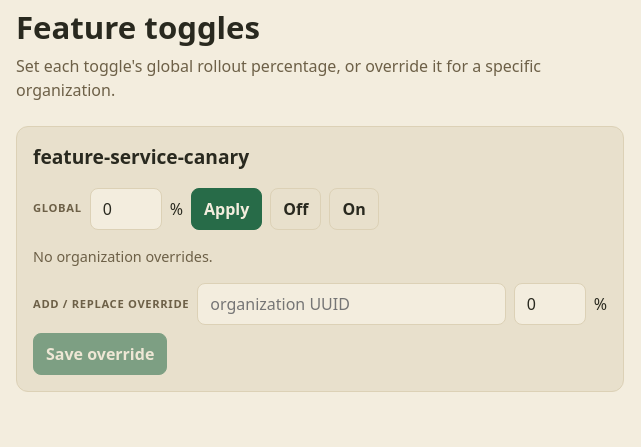
Test: FeatureTogglesPageComponent › shows a per-card error when a write fails and keeps the other toggles usable
The image size is (641, 447).
Click the button with test id "global-on" at [354, 209], box [329, 188, 379, 230]
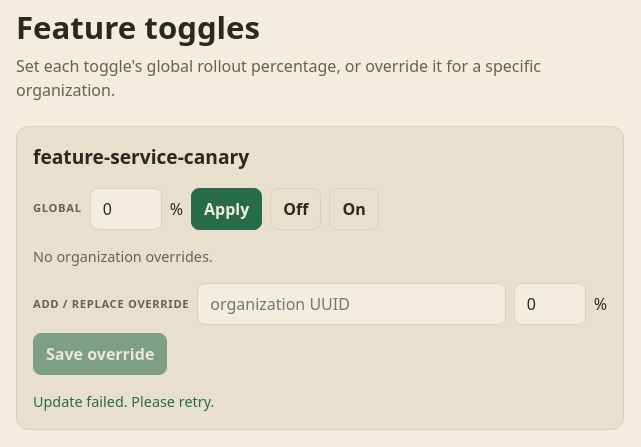
Result: the text "Update failed" is shown at [33, 392, 214, 411]
